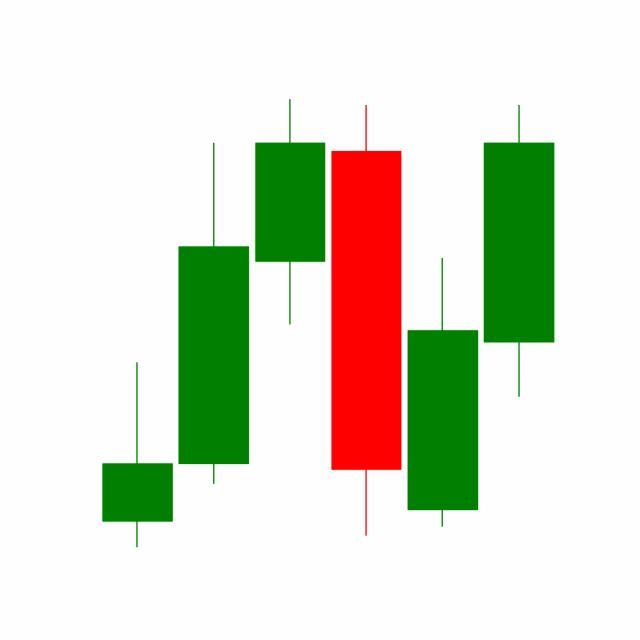Hikkake Pattern: (175, 99, 555, 541)
